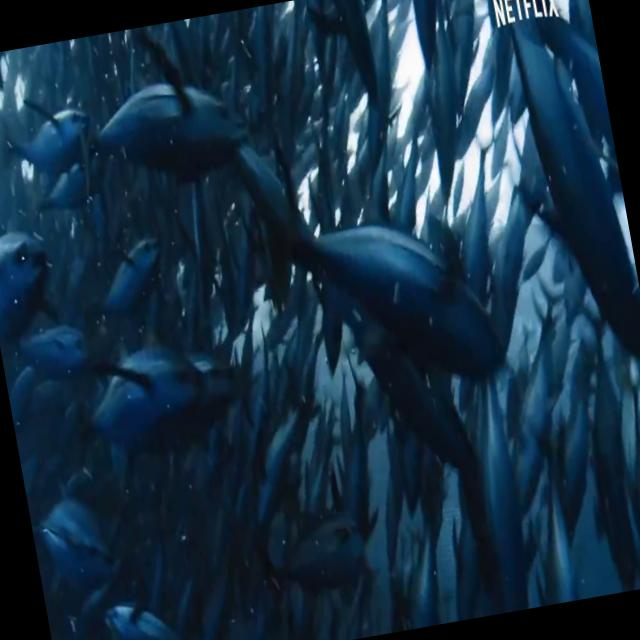fish: (255, 130, 505, 412), (484, 0, 640, 377), (52, 70, 247, 186), (4, 95, 94, 176)
